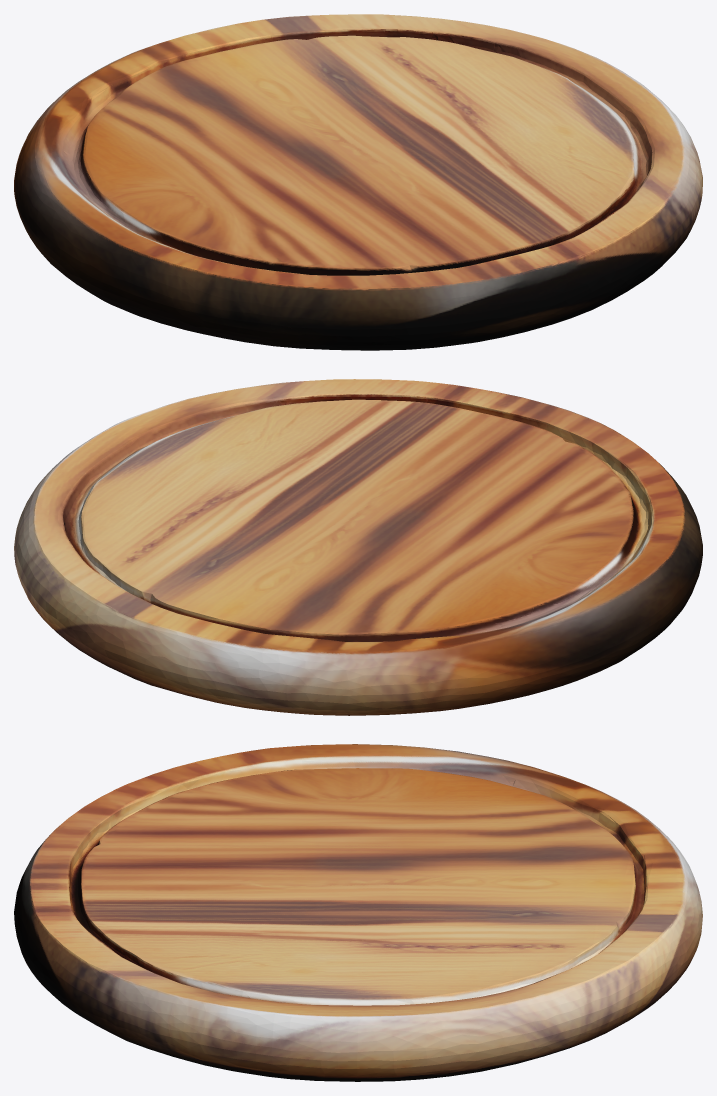
File: wooden-coaster-futuristic.jpeg.glb
3 views of the same model, one above another, from view 1: azimuth 30°, elevation 25°; view 2: azimuth 150°, elevation 25°; view 3: azimuth 270°, elevation 25° (orthographic).
Parts seen in each view (by area): view 1: world; view 2: world; view 3: world.
Boxes of the visible parts, bbox=[...] form: world: bbox=[14, 14, 702, 350]; world: bbox=[14, 379, 702, 715]; world: bbox=[14, 744, 702, 1081].
Bounding box in the file's own units: 0.9998 × 0.1148 × 0.9991.
Materials: 1 (1 with a texture image).
